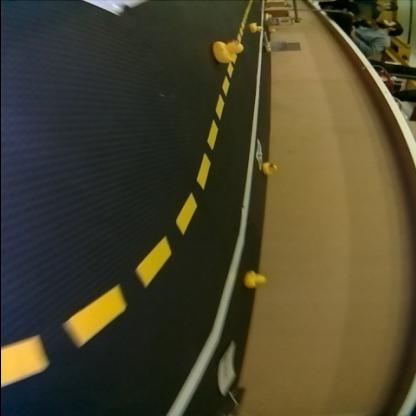Duckie: (212, 40, 242, 63), (244, 272, 266, 288), (263, 162, 277, 176), (248, 24, 262, 34)
QR code: (256, 141, 262, 169)
